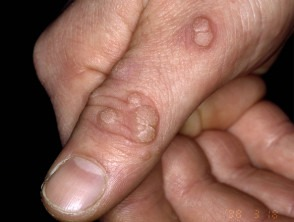Warts: (189, 9, 216, 53), (134, 102, 161, 146), (96, 101, 121, 129)
